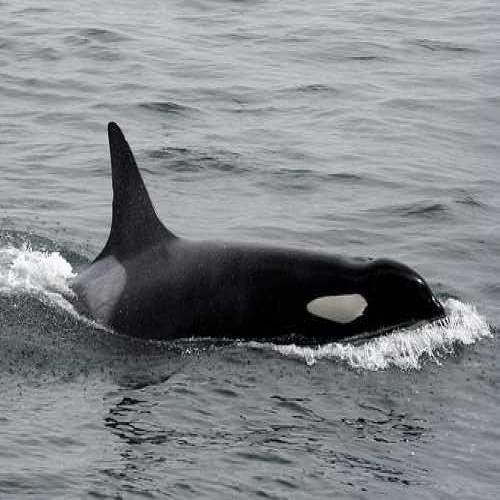killer_whale-endangered: (41, 92, 449, 379)
